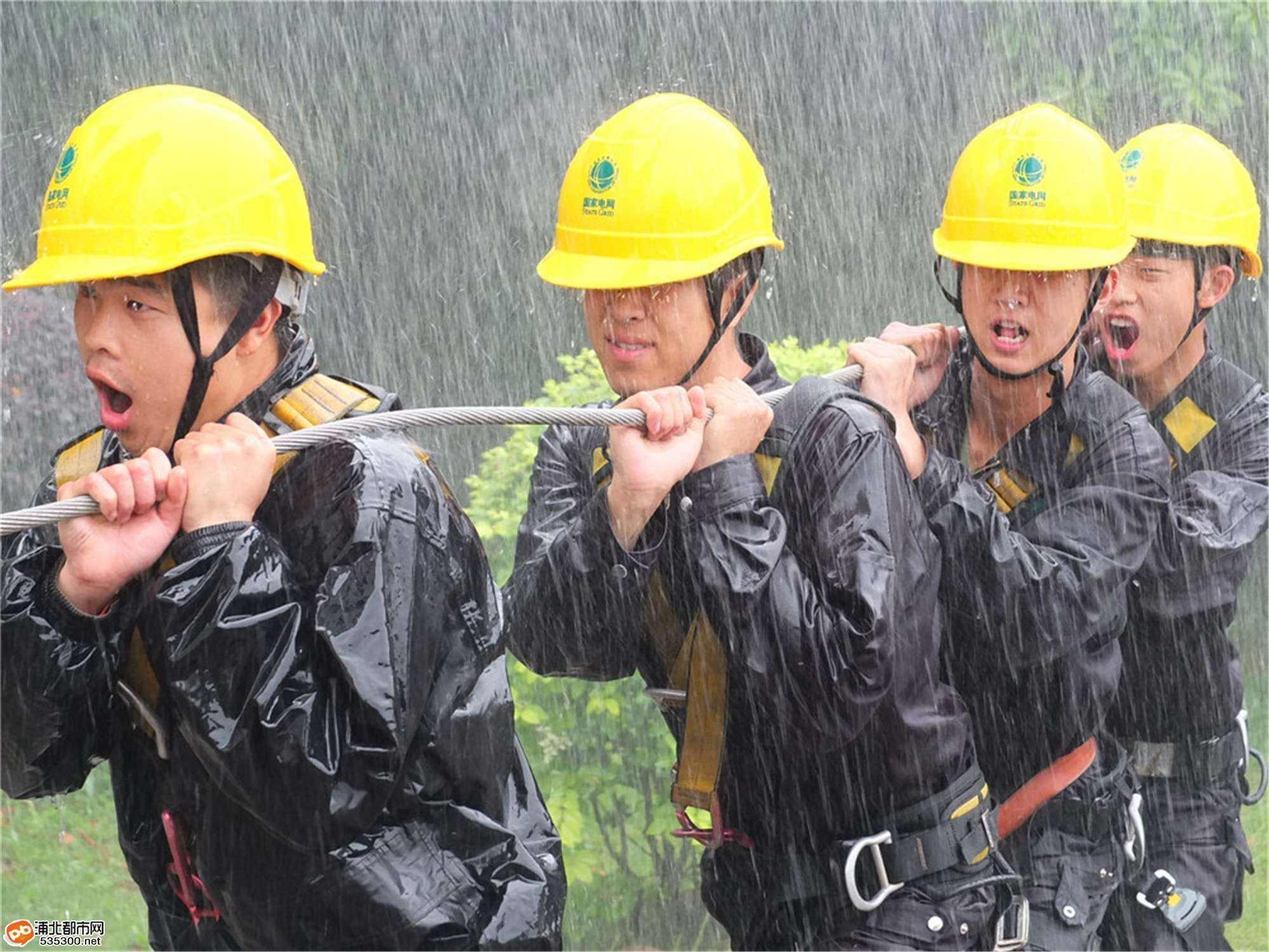Helmet: (536, 95, 784, 367)
